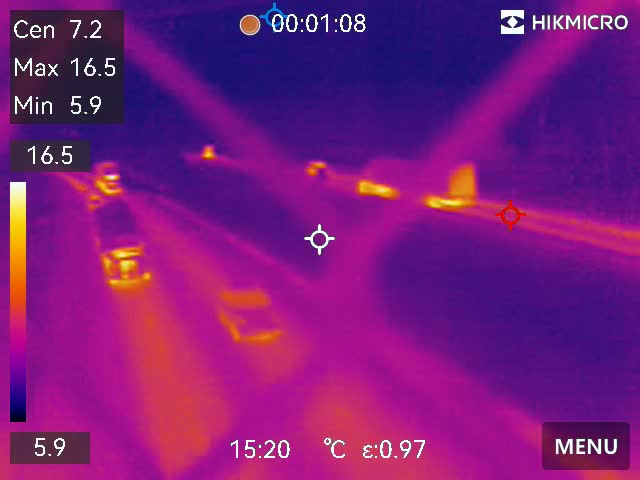heavyTruck: (356, 156, 480, 206), (91, 199, 157, 289)
